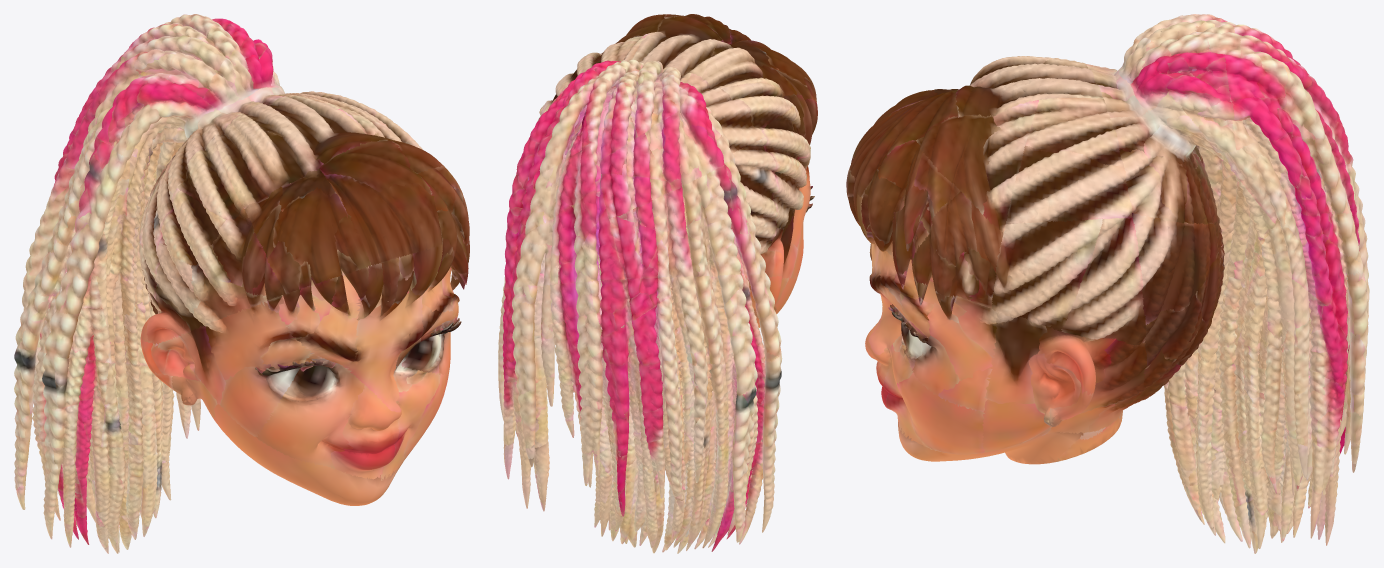
Rendered from planet-01.glb.
The picture shows the model from 3 angles, left to right: view 1: azimuth 30°, elevation 25°; view 2: azimuth 150°, elevation 25°; view 3: azimuth 270°, elevation 25°; orthographic projection. The views are drawn at different scales.
Size of the model in its own units: 1.28 by 1.9 by 1.64.
1 material, 1 textured.
